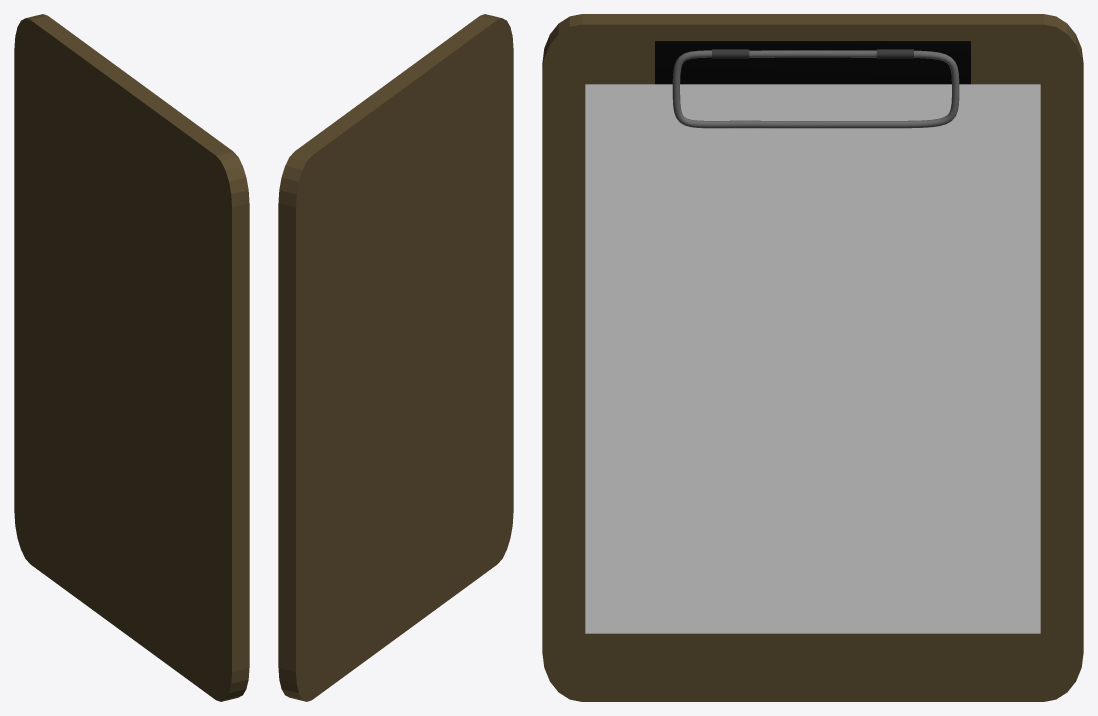
File: Klembord.fbx
3 views of the same model, side by side, from view 1: azimuth 30°, elevation 25°; view 2: azimuth 150°, elevation 25°; view 3: azimuth 270°, elevation 25° (orthographic). The views are drawn at different scales.
Parts seen in each view (by area): view 1: Klembord; view 2: Klembord; view 3: Paper, Klembord, KlembordVeerFixture, Spring.
Part boxes in pixels (bbox=[...]): Klembord: bbox=[14, 14, 249, 701]; Klembord: bbox=[278, 14, 513, 701]; Paper: bbox=[585, 84, 1040, 633]; Klembord: bbox=[542, 14, 1083, 701]; KlembordVeerFixture: bbox=[655, 41, 970, 84]; Spring: bbox=[672, 50, 959, 128].
Bounding box in the file's own units: 11.94 × 200 × 145.
